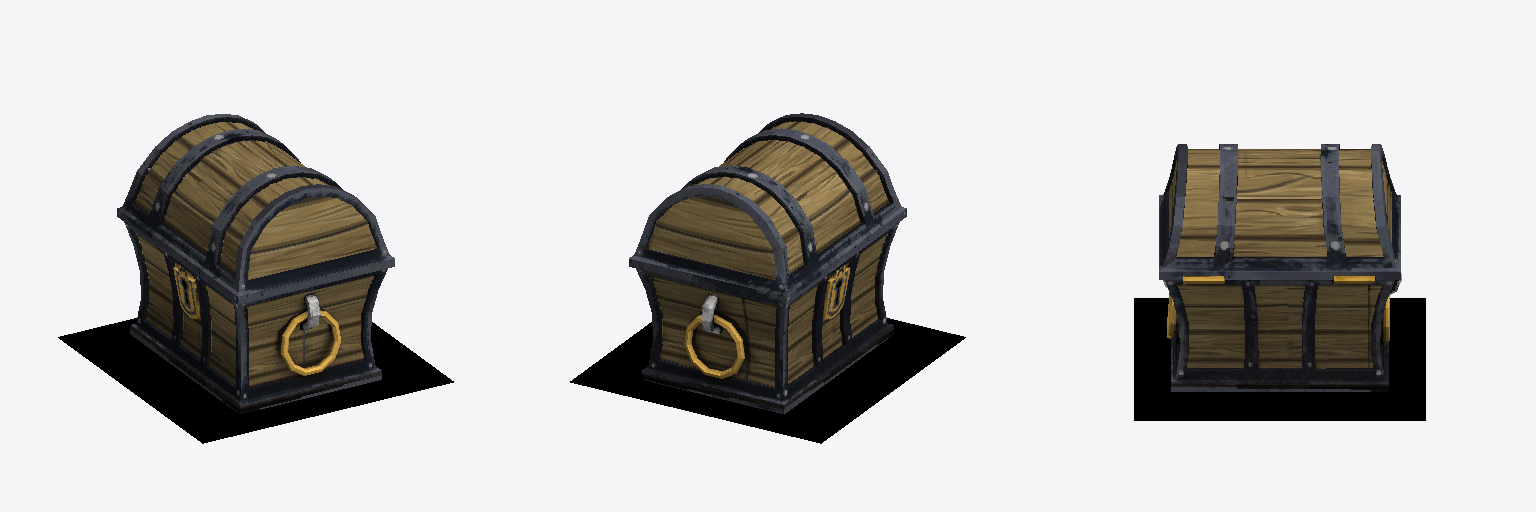
The picture shows the model from 3 angles: view 1: azimuth 30°, elevation 25°; view 2: azimuth 150°, elevation 25°; view 3: azimuth 270°, elevation 25°; orthographic projection.
Visible parts, largest first — view 1: RR_ChestLid_002, RR_ChestBase_001, tileRef, Torus001, RR_Chest_Lock_001; view 2: RR_ChestLid_002, RR_ChestBase_001, tileRef, Torus004, RR_Chest_Lock_001, Torus005; view 3: RR_ChestLid_002, RR_ChestBase_001, tileRef.
Boxes of the visible parts, box(x1,y1,x2,y2) form: RR_ChestLid_002: box(117, 114, 394, 304); RR_ChestBase_001: box(124, 222, 387, 413); tileRef: box(58, 318, 453, 443); Torus001: box(280, 310, 340, 375); RR_Chest_Lock_001: box(173, 264, 200, 318); RR_ChestLid_002: box(629, 113, 906, 304); RR_ChestBase_001: box(636, 222, 899, 413); tileRef: box(570, 318, 965, 443); Torus004: box(684, 315, 744, 378); RR_Chest_Lock_001: box(823, 264, 850, 318); Torus005: box(701, 293, 722, 333); RR_ChestLid_002: box(1159, 144, 1400, 279); RR_ChestBase_001: box(1165, 280, 1394, 391); tileRef: box(1134, 298, 1425, 420).
Bounding box in the file's own units: 78.74 × 61.94 × 78.74.
Materials: 6 (2 with a texture image).